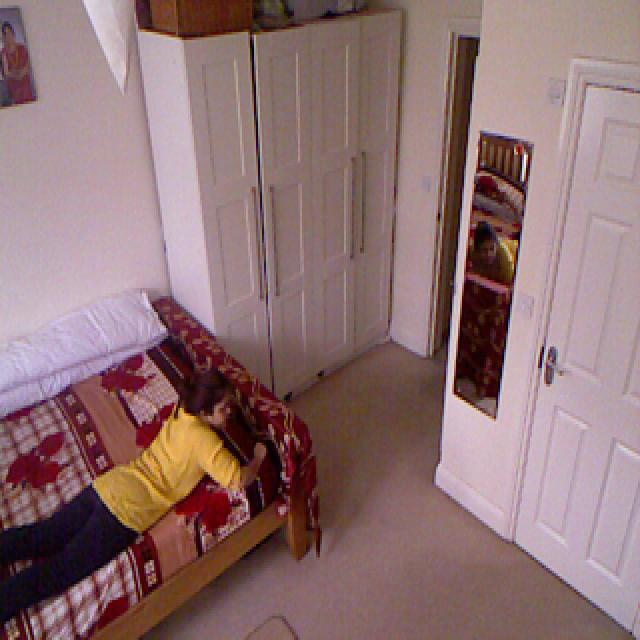lying: (0, 369, 271, 623)
